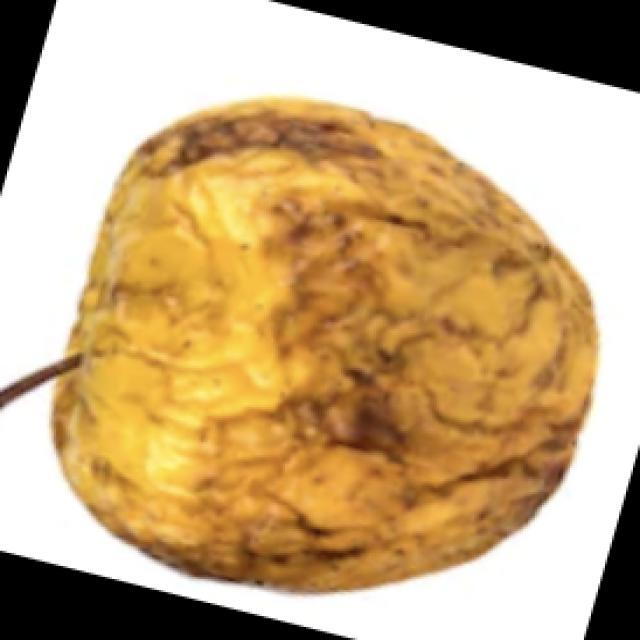Rotten: (43, 116, 635, 602)
